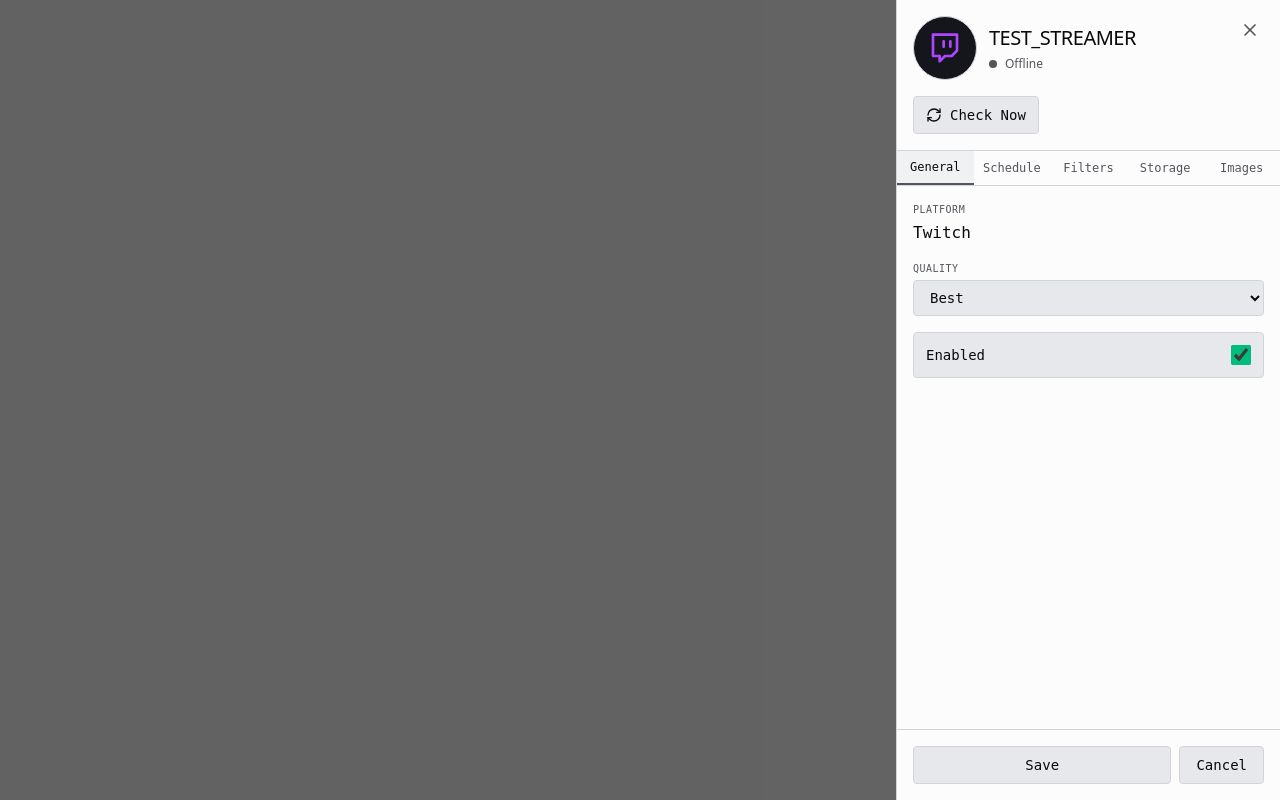
Test: ChannelDetailPanel › tab system › switching to Filters tab shows filter fields
Click the button "Filters" at (1088, 168), box [1050,151,1127,185]
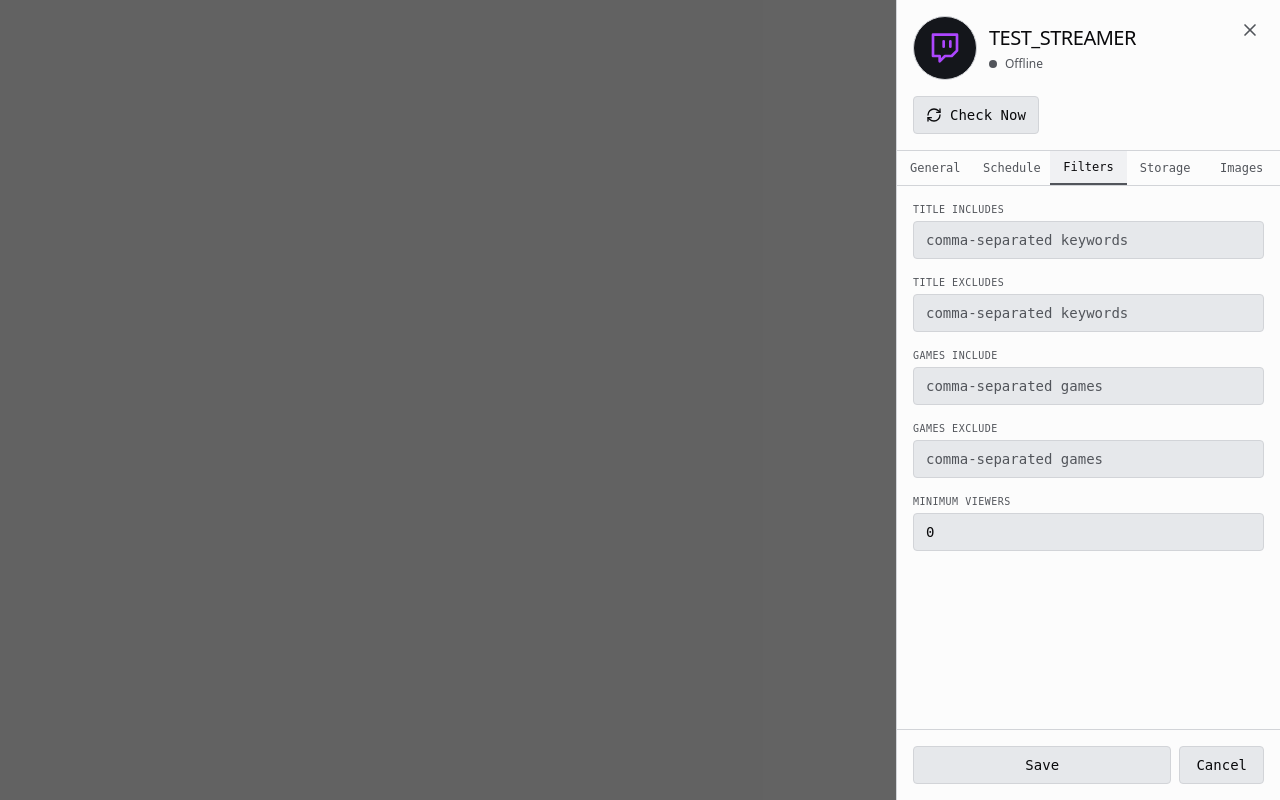
Now the text "Title Includes" is shown, box [913,204,1004,215]
Now the text "Title Excludes" is shown, box [913,277,1004,288]
Now the text "Games Include" is shown, box [913,350,998,361]
